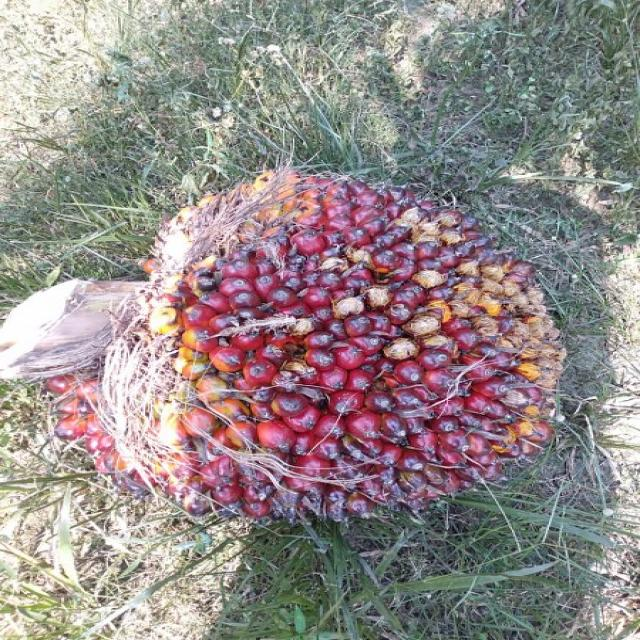fraksi 1: (20, 91, 640, 558)
